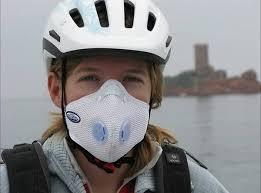Wearing Mask: (29, 0, 188, 190)
